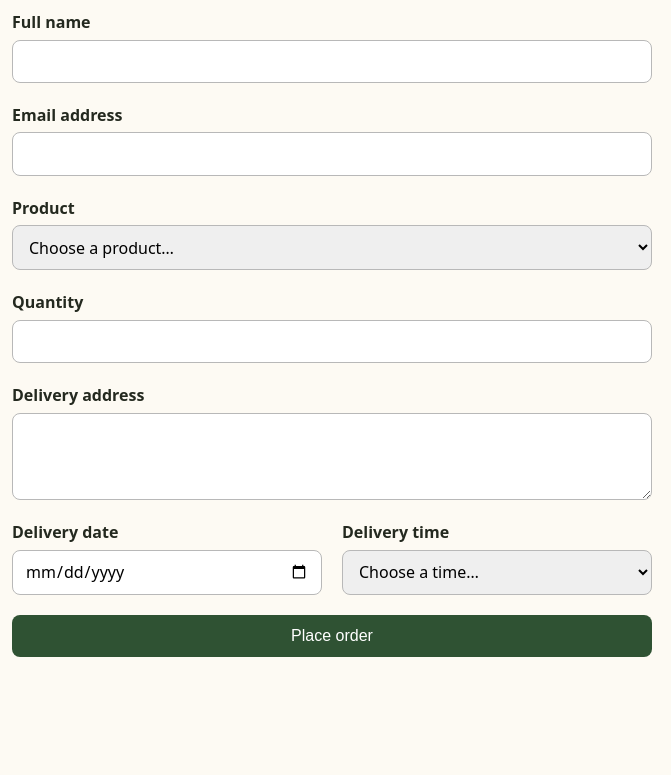
Test: OrderForm › shows a validation error when a required field is left blank on submit
Click the button "Place order": (332, 636) [12,615,652,657]
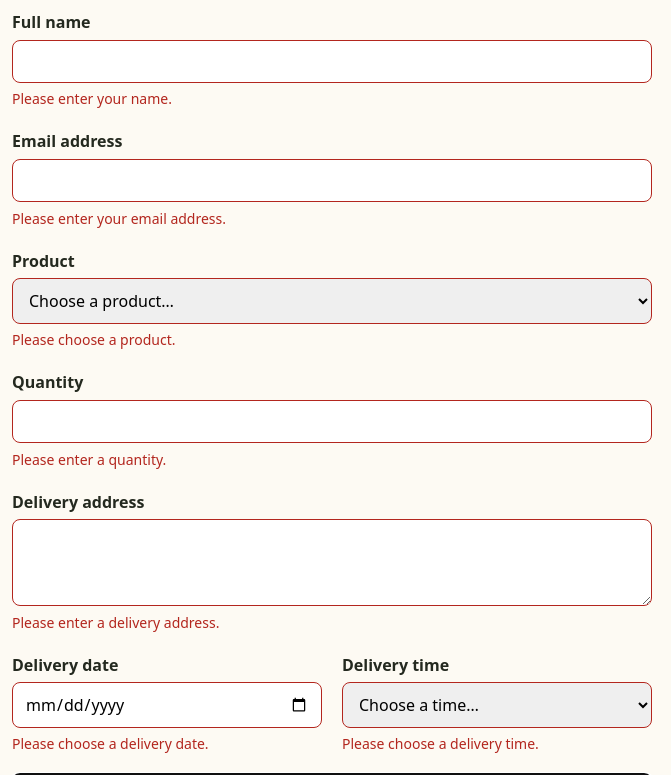
Expected: the text "Please enter your name." is shown, [12,89,172,108]
